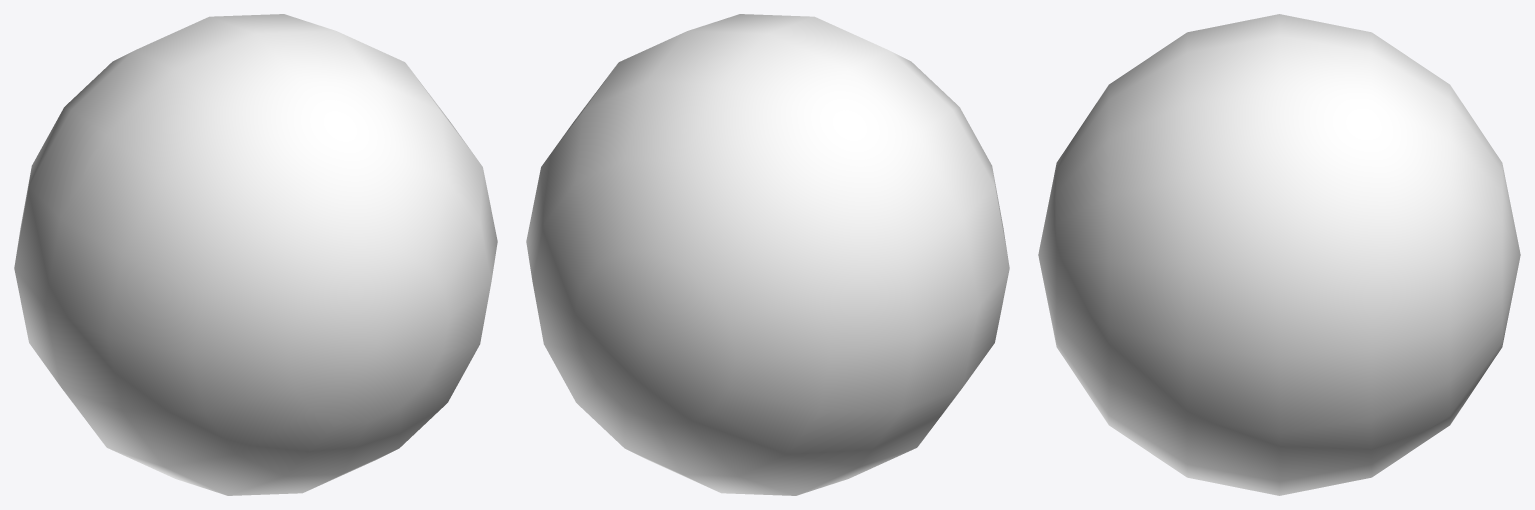
The model's file is eye.gltf.
The picture shows the model from 3 angles, left to right: view 1: azimuth 30°, elevation 25°; view 2: azimuth 150°, elevation 25°; view 3: azimuth 270°, elevation 25°; orthographic projection.
Visible parts, largest first — view 1: Object_2; view 2: Object_2; view 3: Object_2.
Part boxes in pixels (x1,y1,x2,y2): Object_2: (14, 14, 497, 495); Object_2: (526, 14, 1009, 495); Object_2: (1038, 14, 1520, 495).
Bounding box in the file's own units: 2.04 × 2.04 × 2.04.
2 materials, 2 textured.
